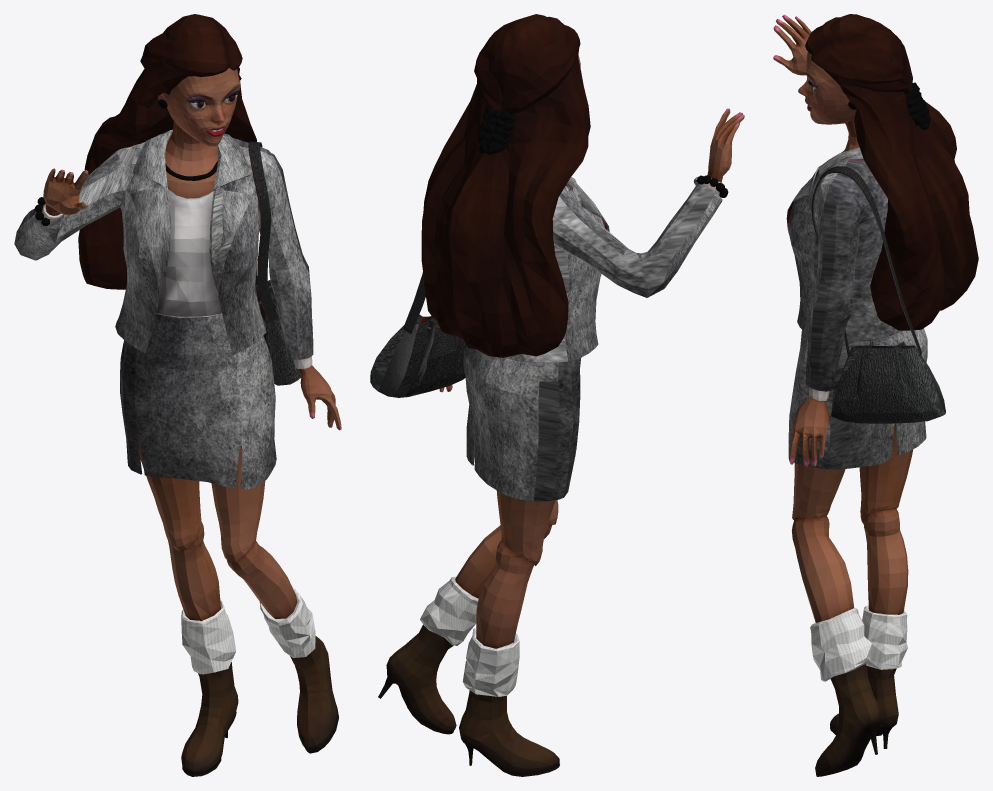
File: hw_pop_doll.glb
3 views of the same model, side by side, from view 1: azimuth 30°, elevation 25°; view 2: azimuth 150°, elevation 25°; view 3: azimuth 270°, elevation 25° (orthographic). The views are drawn at different scales.
Visible parts, largest first — view 1: node_id33_Material_1590_0, node_id33_Material_1589_0, node_id33_Material_1591_0, node_id33_Material_1588_0; view 2: node_id33_Material_1589_0, node_id33_Material_1590_0, node_id33_Material_1588_0, node_id33_Material_1591_0; view 3: node_id33_Material_1589_0, node_id33_Material_1590_0, node_id33_Material_1588_0, node_id33_Material_1591_0.
Part boxes in pixels (x1=…): node_id33_Material_1590_0: x1=14, y1=129, x2=313, y2=489; node_id33_Material_1589_0: x1=34, y1=14, x2=341, y2=776; node_id33_Material_1591_0: x1=181, y1=585, x2=315, y2=674; node_id33_Material_1588_0: x1=249, y1=141, x2=301, y2=385; node_id33_Material_1589_0: x1=378, y1=14, x2=744, y2=776; node_id33_Material_1590_0: x1=463, y1=176, x2=722, y2=501; node_id33_Material_1588_0: x1=370, y1=272, x2=465, y2=397; node_id33_Material_1591_0: x1=420, y1=576, x2=519, y2=696; node_id33_Material_1589_0: x1=773, y1=14, x2=978, y2=776; node_id33_Material_1590_0: x1=786, y1=123, x2=927, y2=469; node_id33_Material_1588_0: x1=811, y1=166, x2=945, y2=423; node_id33_Material_1591_0: x1=810, y1=605, x2=907, y2=681.
Size of the model in its own units: 0.0023 by 0.00512 by 0.00134.
Materials: 4 (4 with a texture image).
